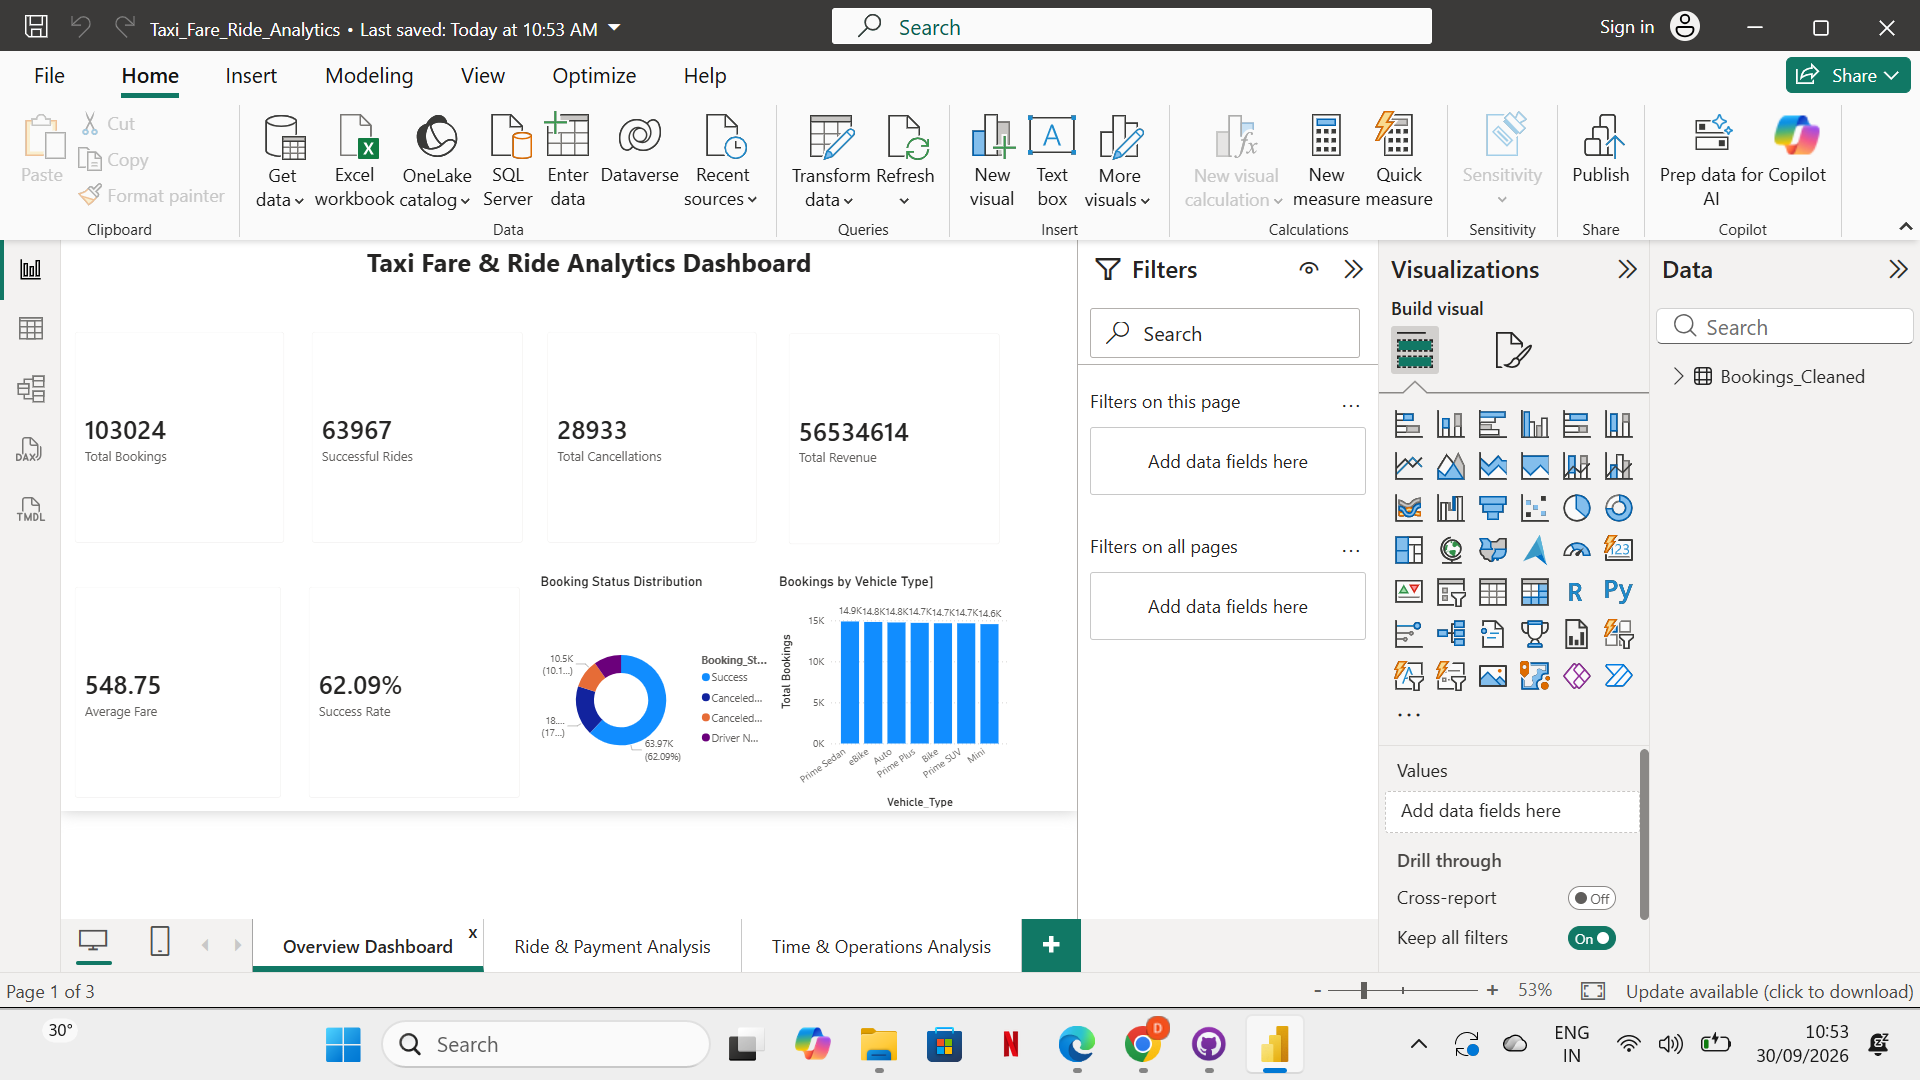

Layout of this report page (visuals, bound fields, positions):
{"tool":"powerbi","page":{"name":"Overview Dashboard","canvas":[1280,720],"ordinal":0},"visuals":[{"type":"cardVisual","fields":{"Data":["Bookings_Cleaned.Total Bookings"]},"box":[0,98.3,298.6,300.5],"z":0},{"type":"cardVisual","fields":{"Data":["Bookings_Cleaned.Successful Rides"]},"box":[298.6,98.3,300.5,300.5],"z":1000},{"type":"cardVisual","fields":{"Data":["Bookings_Cleaned.Total Cancellations"]},"box":[595.3,98.3,298.6,300.5],"z":2000},{"type":"cardVisual","fields":{"Data":["Bookings_Cleaned.Total Revenue"]},"box":[899.5,100.2,300.5,300.5],"z":3000},{"type":"cardVisual","fields":{"Data":["Bookings_Cleaned.Average Fare"]},"box":[0,419.5,294.8,300.5],"z":4000},{"type":"cardVisual","fields":{"Data":["Bookings_Cleaned.Success Rate"]},"box":[294.8,419.5,300.5,300.5],"z":5000},{"type":"donutChart","title":"Booking Status Distribution","fields":{"Category":["Bookings_Cleaned.Booking_Status"],"Y":["CountNonNull(Bookings_Cleaned.Booking_ID)"]},"box":[599.1,419.5,300.5,300.5],"z":6000},{"type":"clusteredColumnChart","title":"Bookings by Vehicle Type]","fields":{"Category":["Bookings_Cleaned.Vehicle_Type"],"Y":["Bookings_Cleaned.Total Bookings"]},"box":[899.5,419.5,298.6,300.5],"z":7000},{"type":"textbox","box":[318,0,696,98],"z":8000}]}

Visuals, with their boxes on the page's 1280x720 design canvas (x1, y1, x2, y2). These are canvas units, not pixel positions in the 1920x1080 screenshot, which may show the page scaled, cropped or inside an application window:
cardVisual - Bookings_Cleaned.Total Bookings: pyautogui.locateOnScreen(0, 98, 299, 399)
cardVisual - Bookings_Cleaned.Successful Rides: pyautogui.locateOnScreen(299, 98, 599, 399)
cardVisual - Bookings_Cleaned.Total Cancellations: pyautogui.locateOnScreen(595, 98, 894, 399)
cardVisual - Bookings_Cleaned.Total Revenue: pyautogui.locateOnScreen(900, 100, 1200, 401)
cardVisual - Bookings_Cleaned.Average Fare: pyautogui.locateOnScreen(0, 420, 295, 720)
cardVisual - Bookings_Cleaned.Success Rate: pyautogui.locateOnScreen(295, 420, 595, 720)
"Booking Status Distribution" donutChart: pyautogui.locateOnScreen(599, 420, 900, 720)
"Bookings by Vehicle Type]" clusteredColumnChart: pyautogui.locateOnScreen(900, 420, 1198, 720)
textbox: pyautogui.locateOnScreen(318, 0, 1014, 98)
